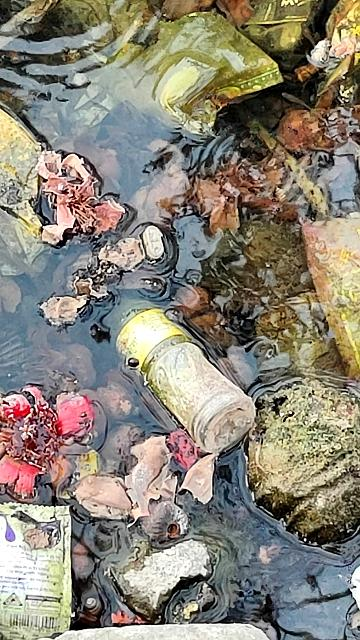bottle: (104, 296, 260, 461)
